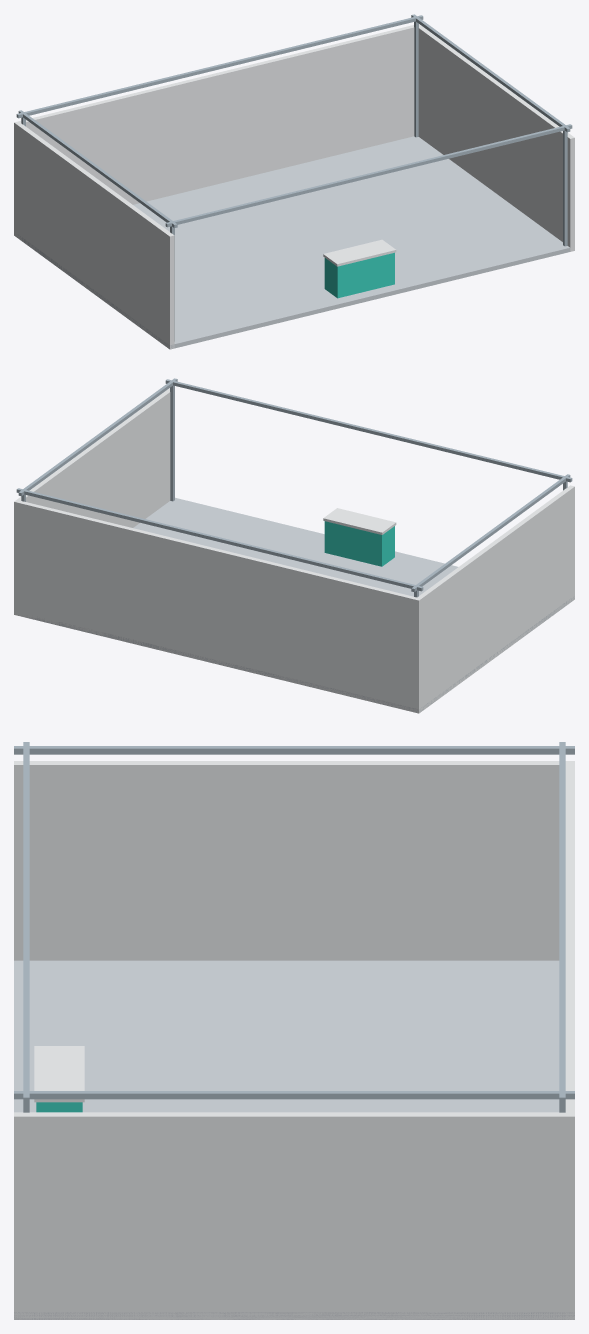
The picture shows the model from 3 angles, top to bottom: view 1: azimuth 30°, elevation 25°; view 2: azimuth 150°, elevation 25°; view 3: azimuth 270°, elevation 25°; orthographic projection. The views are drawn at different scales.
Visible parts, largest first — view 1: Exhibition Booth Concept; view 2: Exhibition Booth Concept; view 3: Exhibition Booth Concept.
Part boxes in pixels (x1=…): Exhibition Booth Concept: x1=14, y1=14, x2=574, y2=349; Exhibition Booth Concept: x1=14, y1=378, x2=574, y2=713; Exhibition Booth Concept: x1=14, y1=742, x2=574, y2=1319.
Bounding box in the file's own units: 12 × 3.49 × 8.
